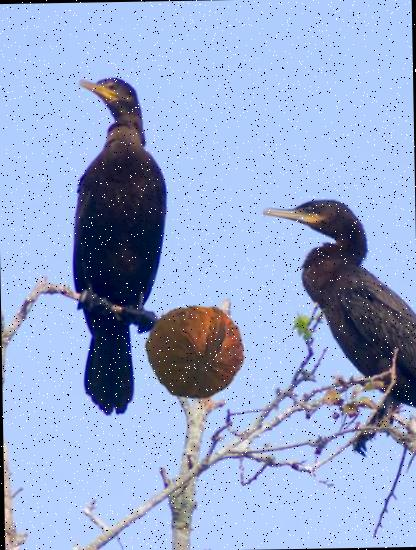Walnut: (144, 300, 245, 402)
